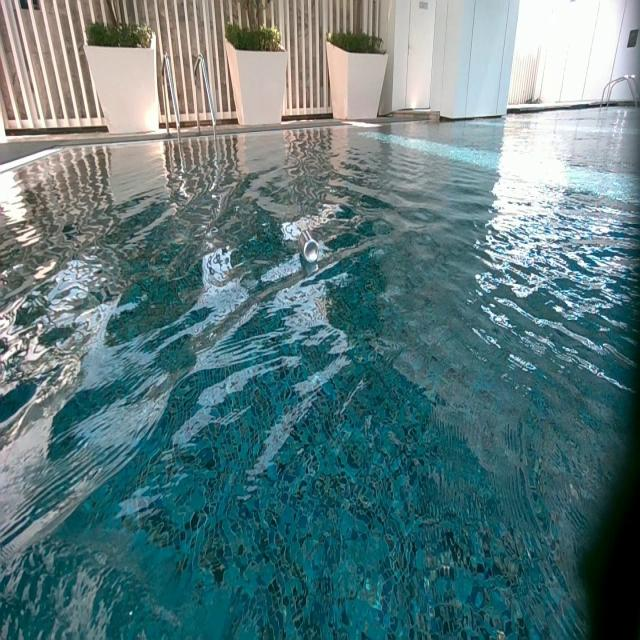Cans: (299, 228, 319, 266)
